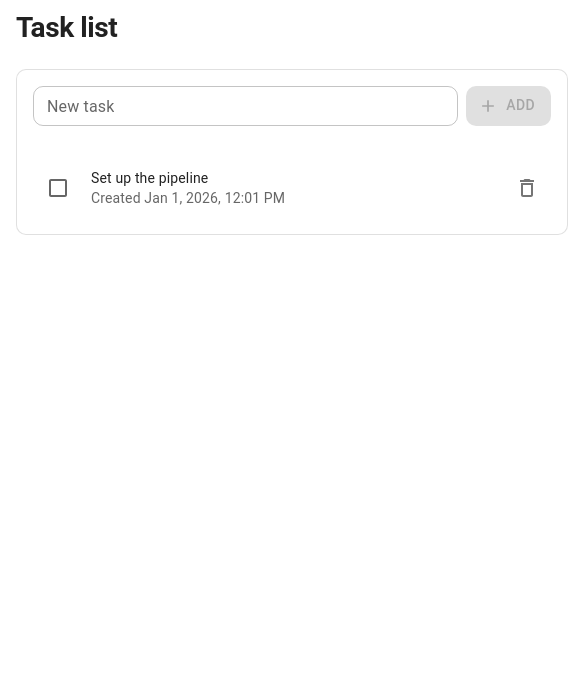
Test: App › once loaded › notifies when an action fails
The image size is (585, 677).
Step 1. Click the checkbox named "Set up the pipeline" → [58, 188], box left=46, top=176, right=70, bottom=200
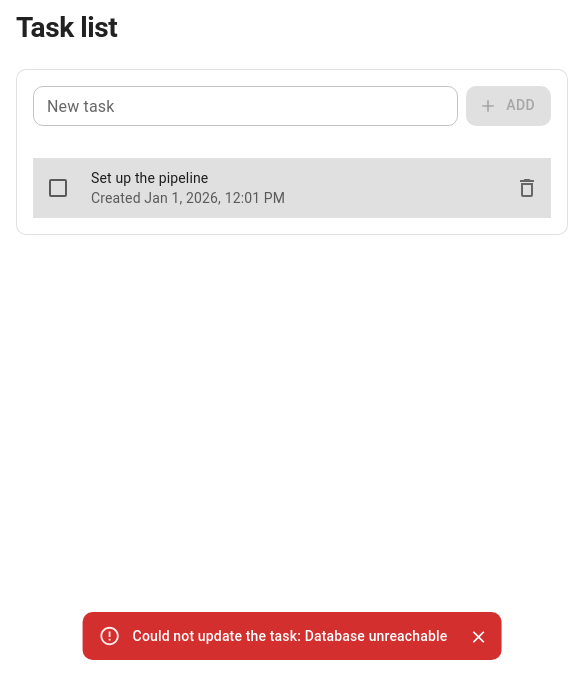
Expected: the message with test id "notification" reads "Could not update the task: Database unreachable", left=133, top=628, right=447, bottom=644
